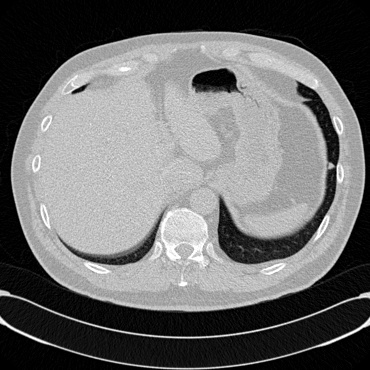PN: (328, 162, 334, 168)
